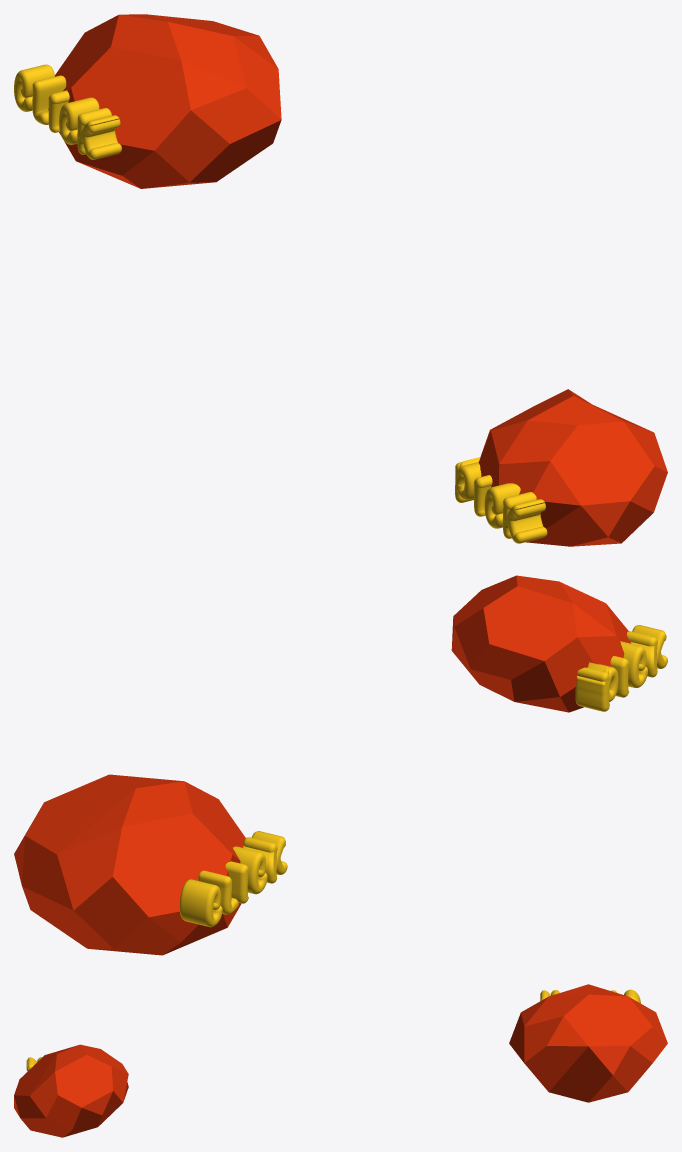
File: island-fall-guideboard.glb
3 views of the same model, one above another, from view 1: azimuth 30°, elevation 25°; view 2: azimuth 150°, elevation 25°; view 3: azimuth 270°, elevation 25° (orthographic). The views are drawn at different scales.
Visible parts, largest first — view 1: Icosphere.020, Icosphere.019, Text, Text.001; view 2: Icosphere.020, Icosphere.019, Text, Text.001; view 3: Icosphere.020, Icosphere.019, Text.
Boxes of the visible parts, x1,y1,x2,y2 form: Icosphere.020: (48, 14, 281, 188); Icosphere.019: (478, 389, 667, 546); Text: (14, 64, 121, 159); Text.001: (455, 457, 547, 543); Icosphere.020: (14, 774, 245, 955); Icosphere.019: (451, 575, 631, 712); Text: (179, 831, 287, 927); Text.001: (575, 625, 667, 711); Icosphere.020: (509, 984, 667, 1102); Icosphere.019: (14, 1044, 128, 1137); Text: (540, 989, 640, 1003).
Size of the model in its own units: 0.7026 by 0.6676 by 2.88.
